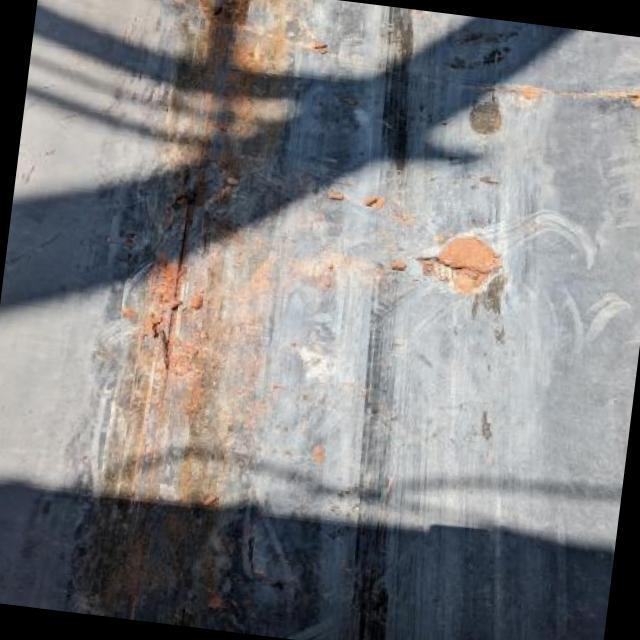Wear: (56, 0, 309, 629)
